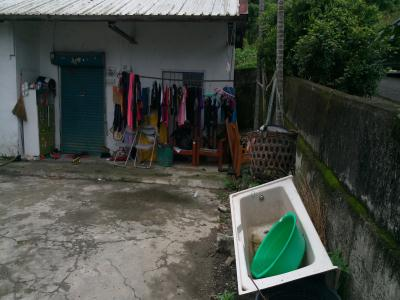bowl: (248, 209, 307, 279)
tub: (228, 174, 336, 297)
